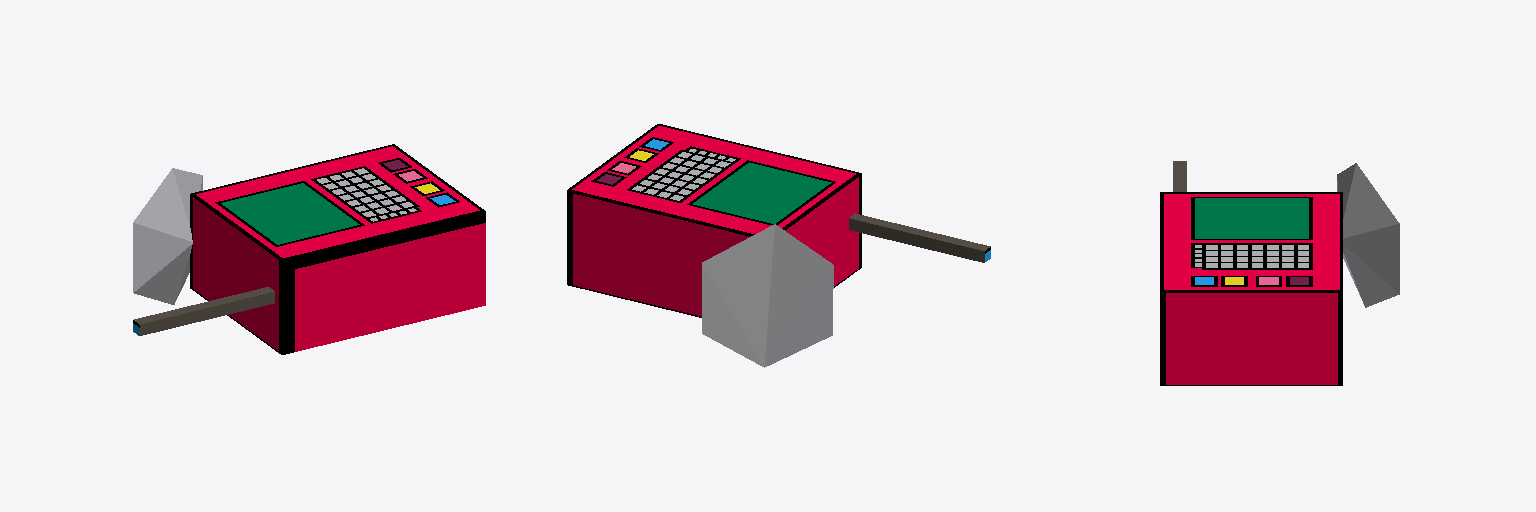
3 renders of one model, left to right at view 1: azimuth 30°, elevation 25°; view 2: azimuth 150°, elevation 25°; view 3: azimuth 270°, elevation 25°, orthographic.
Parts seen in each view (by area): view 1: unnamed_10; view 2: unnamed_10; view 3: unnamed_10.
Part boxes in pixels (bbox=[...]): unnamed_10: bbox=[133, 144, 485, 354]; unnamed_10: bbox=[567, 124, 990, 367]; unnamed_10: bbox=[1160, 161, 1399, 385].
Bounding box in the file's own units: 7.5 × 3 × 4.58.
1 materials, 1 textured.